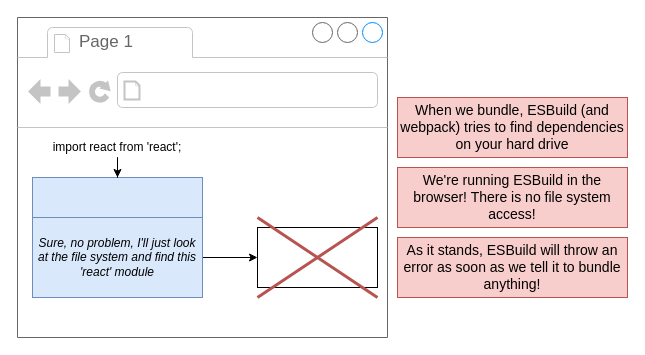
The diagram is 645 pixels wide and 355 high, and some of its shapes have lost their labels. The box of each missing label's shape, as (x1, y1, x2, y2) in pixels:
ESBuild Transpile + Bundle: (32, 176, 202, 218)
https://www.draw.io: (146, 76, 398, 104)
Your computer's filesystem: (256, 226, 378, 288)
